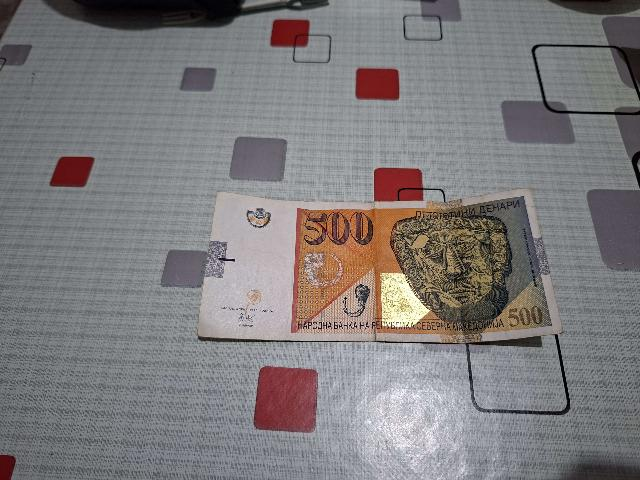500_note: (199, 189, 561, 342)
